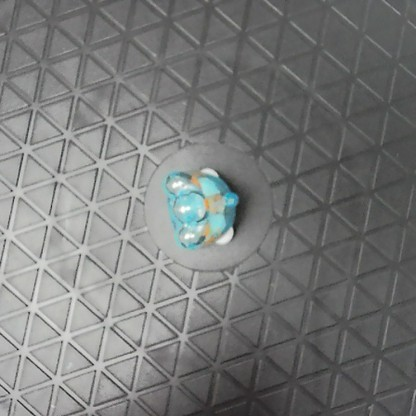bluefish: (161, 166, 241, 253)
